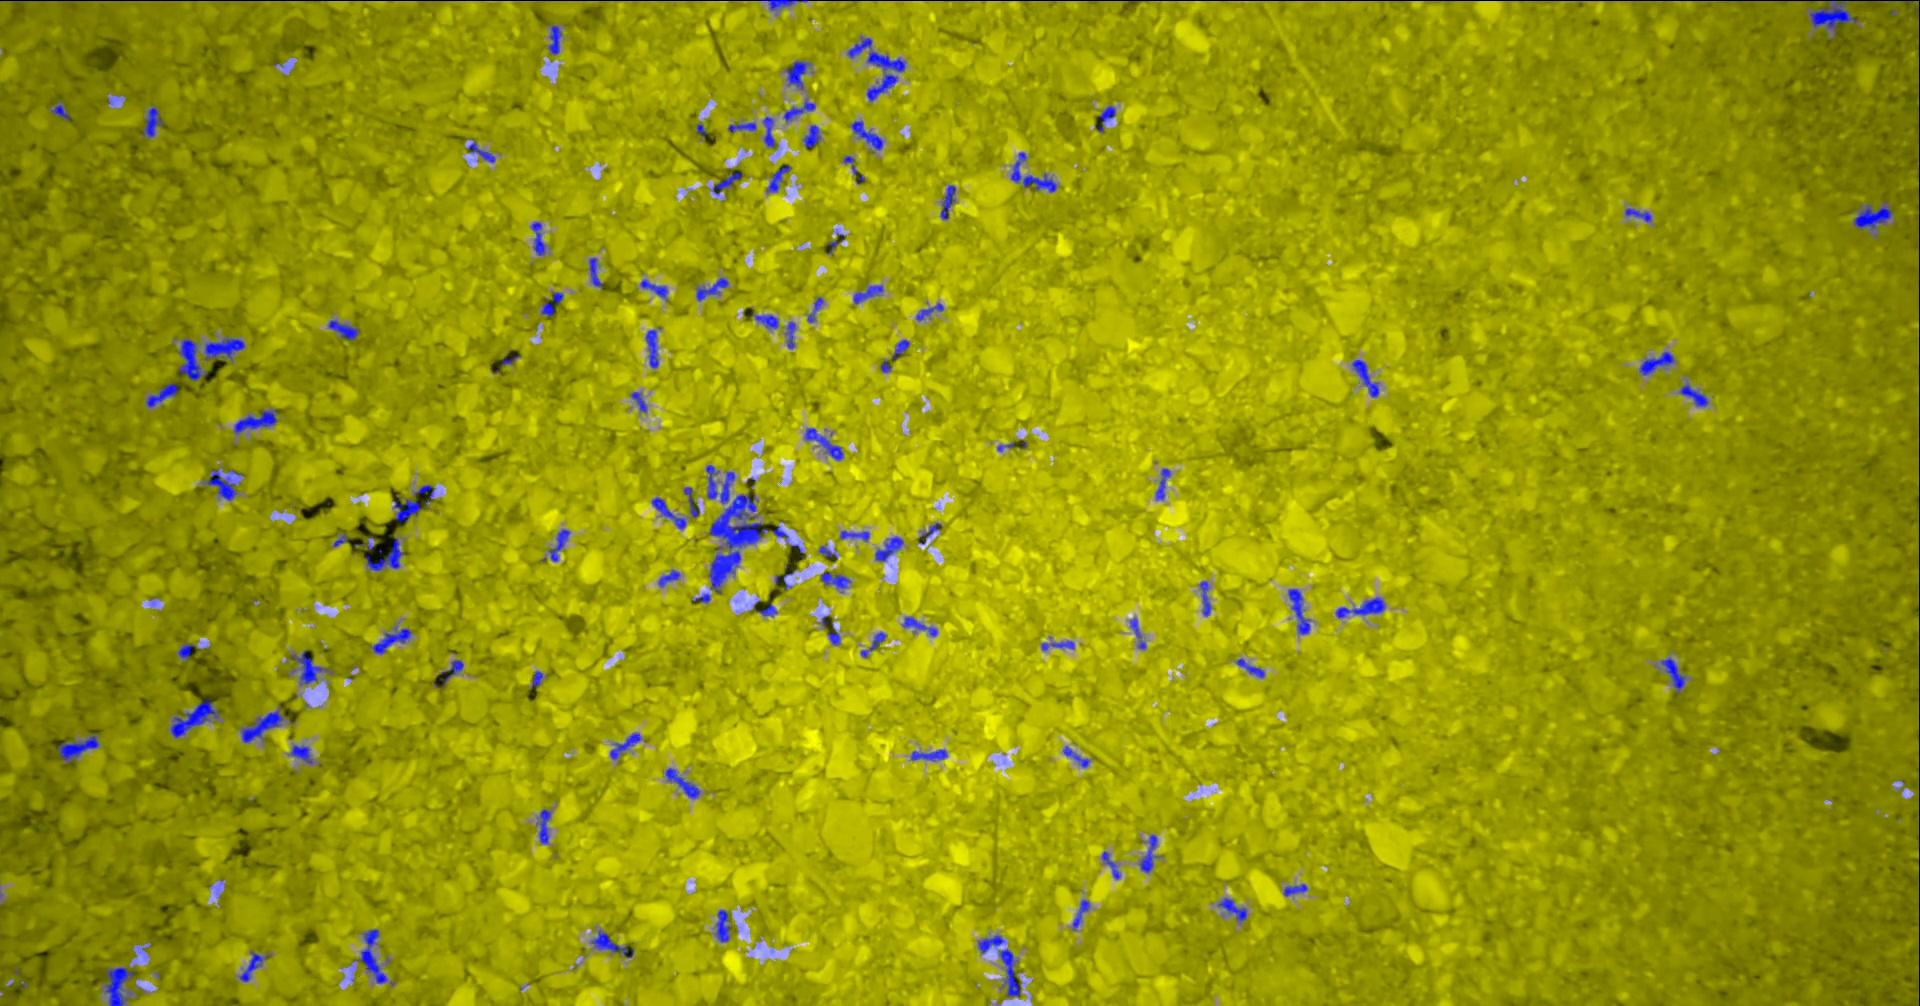ant: (847, 36, 905, 100), (978, 935, 1020, 996), (170, 697, 218, 737), (353, 929, 386, 983), (1010, 152, 1057, 191), (1810, 0, 1857, 30), (240, 710, 282, 742), (364, 537, 404, 570), (804, 427, 842, 460), (178, 338, 207, 380), (590, 929, 632, 956), (204, 469, 241, 500), (104, 967, 135, 1005), (291, 649, 324, 683), (56, 735, 98, 762), (234, 409, 278, 433), (1853, 201, 1892, 227), (651, 497, 684, 528), (1335, 597, 1385, 617), (665, 767, 698, 798), (1288, 588, 1309, 634), (1351, 359, 1378, 396), (372, 627, 410, 653), (1660, 657, 1685, 694), (851, 119, 883, 149), (204, 337, 244, 359), (433, 659, 463, 687), (239, 951, 267, 981), (610, 733, 640, 760), (695, 277, 728, 300), (1639, 351, 1672, 373), (145, 384, 178, 406), (785, 60, 810, 89), (875, 536, 903, 561), (141, 105, 164, 136), (902, 616, 936, 636), (1139, 835, 1157, 873), (766, 164, 790, 192), (549, 528, 569, 561), (712, 171, 742, 194), (1679, 384, 1708, 406), (1217, 897, 1246, 920), (783, 100, 815, 121), (860, 631, 885, 657), (392, 499, 420, 522), (467, 140, 494, 163), (328, 320, 359, 339), (1062, 746, 1090, 767), (843, 155, 863, 183), (853, 285, 883, 304), (541, 291, 563, 316), (1236, 658, 1263, 677), (1101, 851, 1120, 879), (1129, 617, 1145, 649), (715, 909, 731, 941), (822, 615, 839, 644), (1072, 899, 1090, 929), (1095, 105, 1115, 131), (640, 279, 667, 298), (940, 185, 955, 218), (916, 302, 943, 320), (645, 329, 658, 367), (820, 572, 850, 588), (761, 0, 808, 10), (683, 486, 698, 517), (918, 522, 941, 542), (531, 222, 545, 255), (1156, 467, 1170, 499), (803, 124, 820, 149), (414, 484, 434, 504), (290, 744, 311, 763), (762, 116, 775, 147), (1199, 580, 1210, 615), (538, 809, 550, 843), (549, 24, 561, 55), (589, 257, 602, 287), (808, 297, 823, 323), (910, 749, 947, 760), (1624, 207, 1651, 221), (658, 569, 679, 586), (754, 314, 778, 328), (891, 339, 908, 359), (1041, 640, 1073, 650), (841, 530, 869, 541), (631, 391, 646, 412), (1283, 883, 1305, 895), (177, 643, 193, 659), (51, 104, 69, 119), (785, 321, 795, 348), (756, 603, 776, 616), (728, 122, 756, 131), (818, 546, 836, 558), (691, 592, 709, 602), (531, 671, 542, 686)
